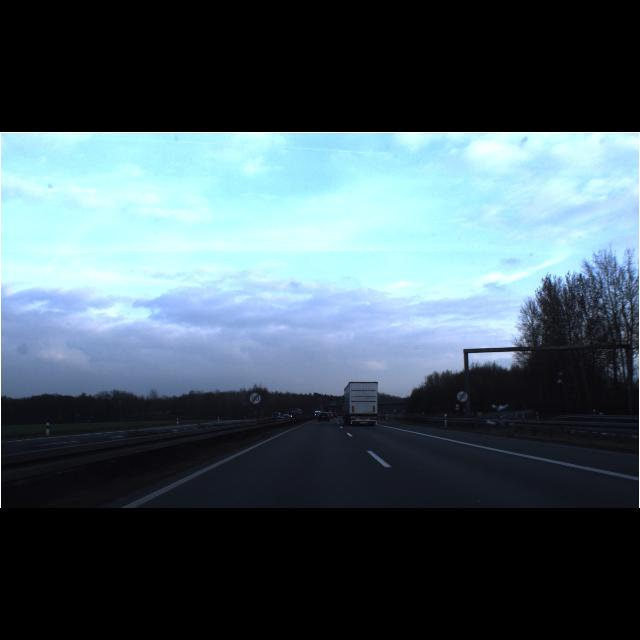other: (456, 391, 468, 403), (249, 393, 261, 405)
